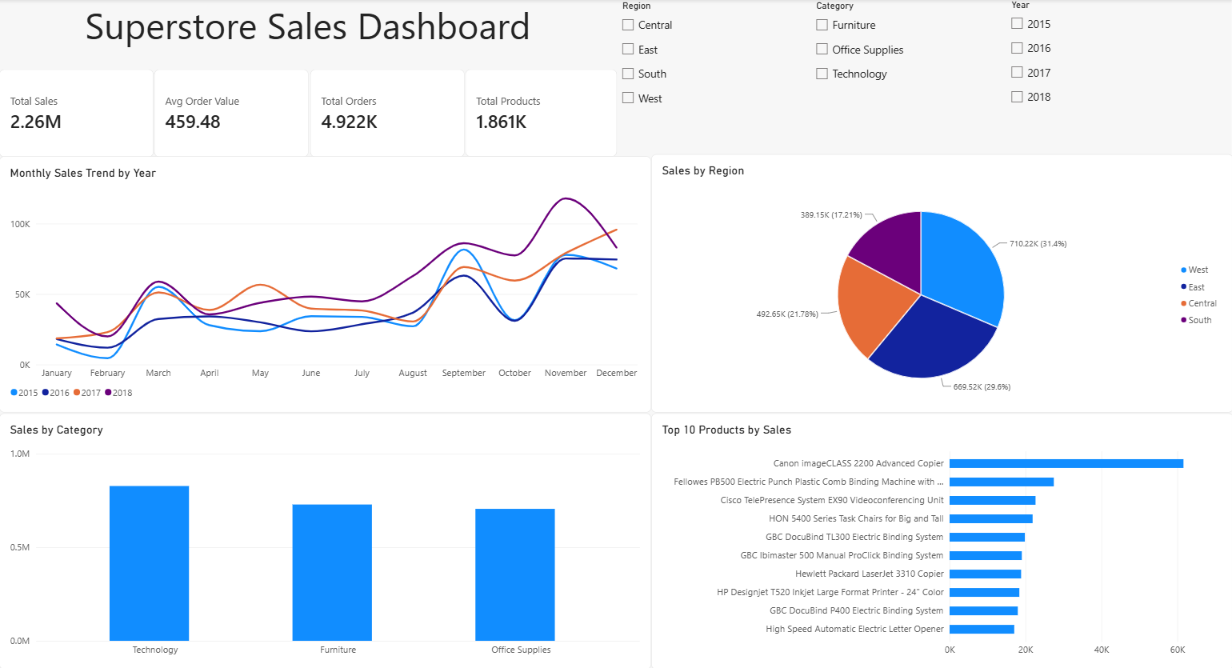

Layout of this report page (visuals, bound fields, positions):
{"tool":"powerbi","page":{"name":"Page 1","canvas":[1920,1080],"ordinal":0},"visuals":[{"type":"cardVisual","fields":{"Data":["Sum(superstore_sales.Sales)"]},"box":[0,108.1,240.7,137.8],"z":0},{"type":"cardVisual","fields":{"Data":["Count(superstore_sales.Order ID)"]},"box":[483.1,108.1,240.7,137.8],"z":2},{"type":"cardVisual","fields":{"Data":["superstore_sales.Avg Order Value"]},"box":[240.7,108.1,240.7,137.8],"z":3},{"type":"cardVisual","fields":{"Data":["Count(superstore_sales.Product ID)"]},"box":[724.4,108.8,236.3,136.8],"z":4},{"type":"lineChart","title":"Monthly Sales Trend by Year","fields":{"Category":["superstore_sales.Order Date.Variation.Date Hierarchy.Month"],"Series":["superstore_sales.Order Date.Variation.Date Hierarchy.Year"],"Y":["Sum(superstore_sales.Sales)"]},"box":[0,244.5,1013.3,398.6],"z":5},{"type":"clusteredColumnChart","title":"Sales by Category","fields":{"Category":["superstore_sales.Category"],"Y":["Sum(superstore_sales.Sales)"]},"box":[0,643.2,1013.3,398.6],"z":6},{"type":"clusteredBarChart","title":"Top 10 Products by Sales","fields":{"Category":["superstore_sales.Product Name"],"Y":["Sum(superstore_sales.Sales)"]},"box":[1013.3,643.2,906.1,398.6],"z":7},{"type":"pieChart","title":"Sales by Region","fields":{"Category":["superstore_sales.Region"],"Y":["Sum(superstore_sales.Sales)"]},"box":[1013.3,241.2,906.1,402],"z":8},{"type":"slicer","fields":{"Values":["superstore_sales.Region"]},"box":[960.6,1.6,301.6,242.5],"z":9},{"type":"slicer","fields":{"Values":["superstore_sales.Category"]},"box":[1262.2,1.6,303.1,245.6],"z":10},{"type":"slicer","fields":{"Values":["superstore_sales.Order Date.Variation.Date Hierarchy.Year"]},"box":[1565.3,0,354.4,239.4],"z":11},{"type":"textbox","box":[0,1.7,959.7,107.2],"z":12}]}

Visuals, with their boxes on the page's 1920x1080 design canvas (x1, y1, x2, y2). These are canvas units, not pixel positions in the 1232x668 screenshot, which may show the page scaled, cropped or inside an application window:
cardVisual - Sum(superstore_sales.Sales): (x1=0, y1=108, x2=241, y2=246)
cardVisual - Count(superstore_sales.Order ID): (x1=483, y1=108, x2=724, y2=246)
cardVisual - superstore_sales.Avg Order Value: (x1=241, y1=108, x2=481, y2=246)
cardVisual - Count(superstore_sales.Product ID): (x1=724, y1=109, x2=961, y2=246)
"Monthly Sales Trend by Year" lineChart: (x1=0, y1=244, x2=1013, y2=643)
"Sales by Category" clusteredColumnChart: (x1=0, y1=643, x2=1013, y2=1042)
"Top 10 Products by Sales" clusteredBarChart: (x1=1013, y1=643, x2=1919, y2=1042)
"Sales by Region" pieChart: (x1=1013, y1=241, x2=1919, y2=643)
slicer - superstore_sales.Region: (x1=961, y1=2, x2=1262, y2=244)
slicer - superstore_sales.Category: (x1=1262, y1=2, x2=1565, y2=247)
slicer - superstore_sales.Order Date.Variation.Date Hierarchy.Year: (x1=1565, y1=0, x2=1920, y2=239)
textbox: (x1=0, y1=2, x2=960, y2=109)
